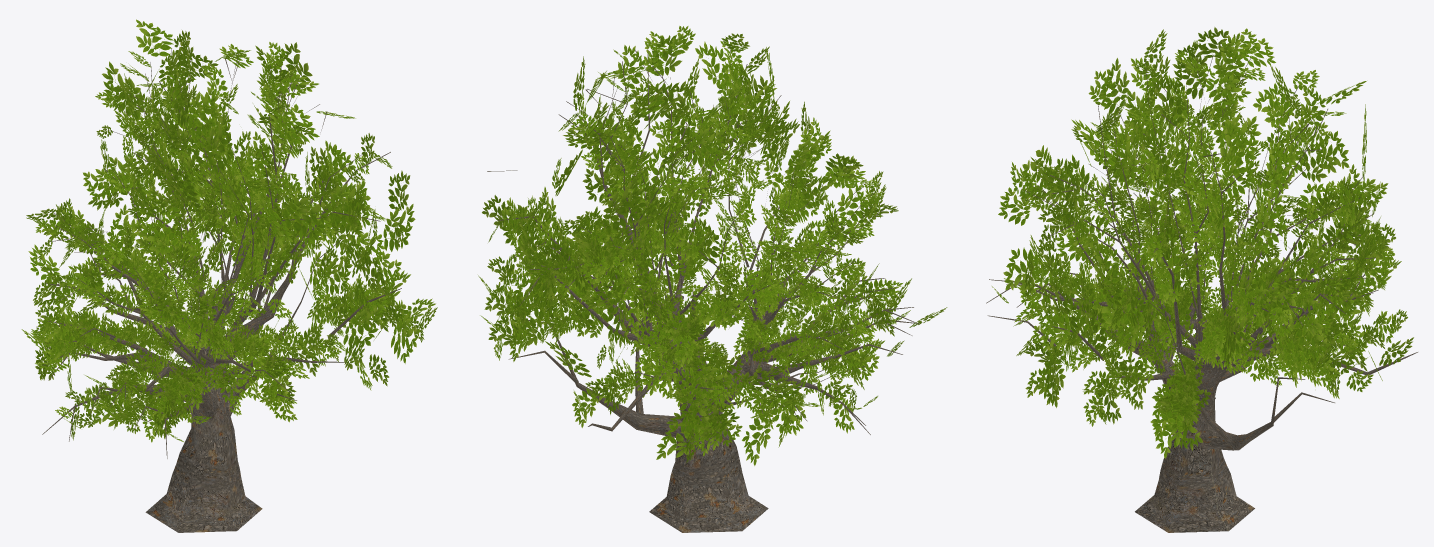
The model's file is Tree_6_2.glb.
The picture shows the model from 3 angles, left to right: view 1: azimuth 30°, elevation 25°; view 2: azimuth 150°, elevation 25°; view 3: azimuth 270°, elevation 25°; orthographic projection. The views are drawn at different scales.
Parts seen in each view (by area): view 1: Tree_6_V2; view 2: Tree_6_V2; view 3: Tree_6_V2.
Part boxes in pixels (<box>): Tree_6_V2: <box>21,19,437,532</box>; Tree_6_V2: <box>478,26,947,532</box>; Tree_6_V2: <box>986,27,1417,532</box>.
Bounding box in the file's own units: 3.1 × 3.81 × 3.05.
Materials: 1 (1 with a texture image).
